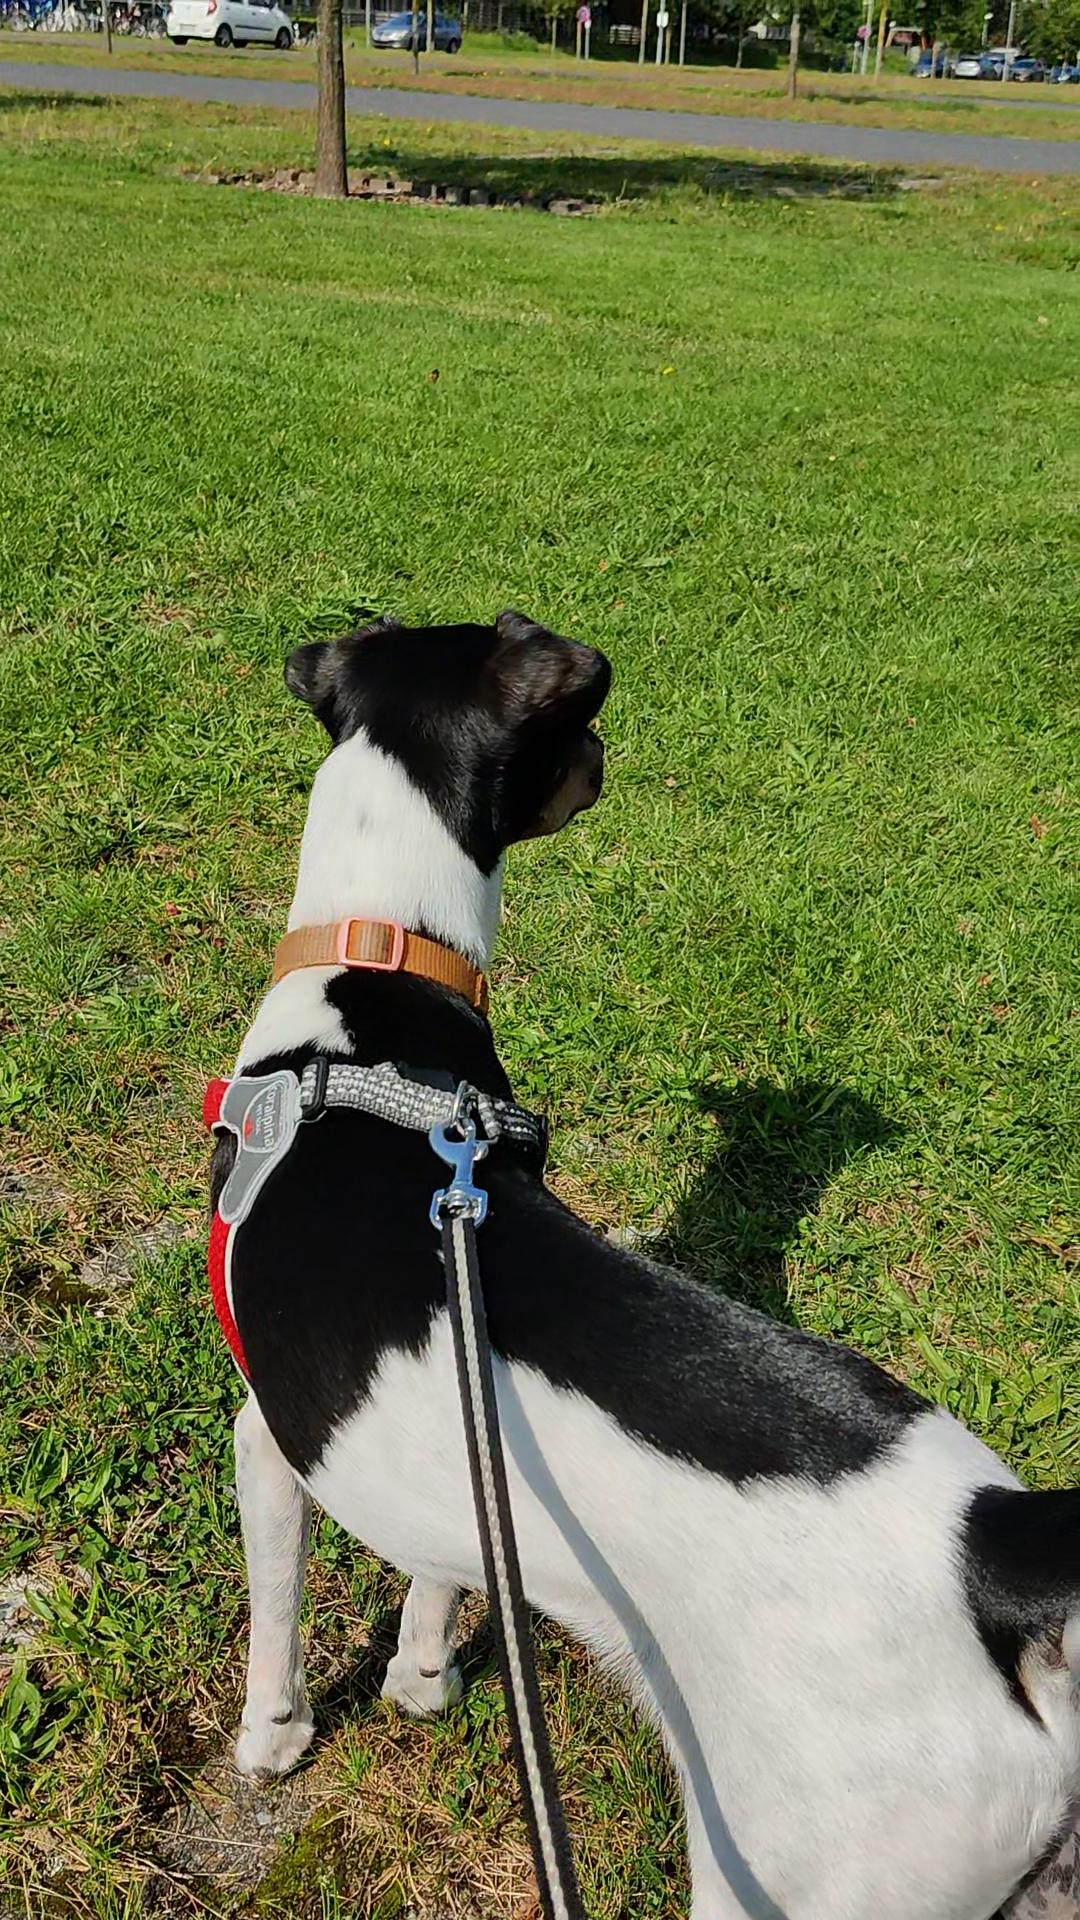Dog: (204, 603, 1079, 1919)
